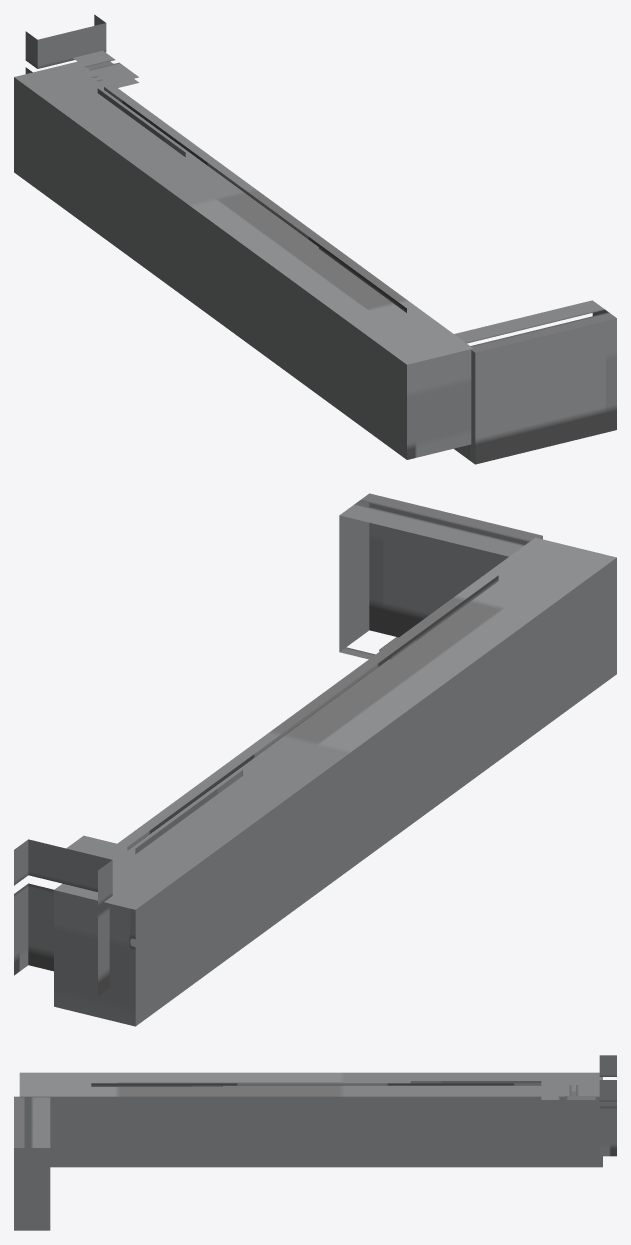
3 views of the same model, one above another, from view 1: azimuth 30°, elevation 25°; view 2: azimuth 150°, elevation 25°; view 3: azimuth 270°, elevation 25° (orthographic). The views are drawn at different scales.
Bounding box in the file's own units: 0.7141 × 0.4854 × 2.44.
